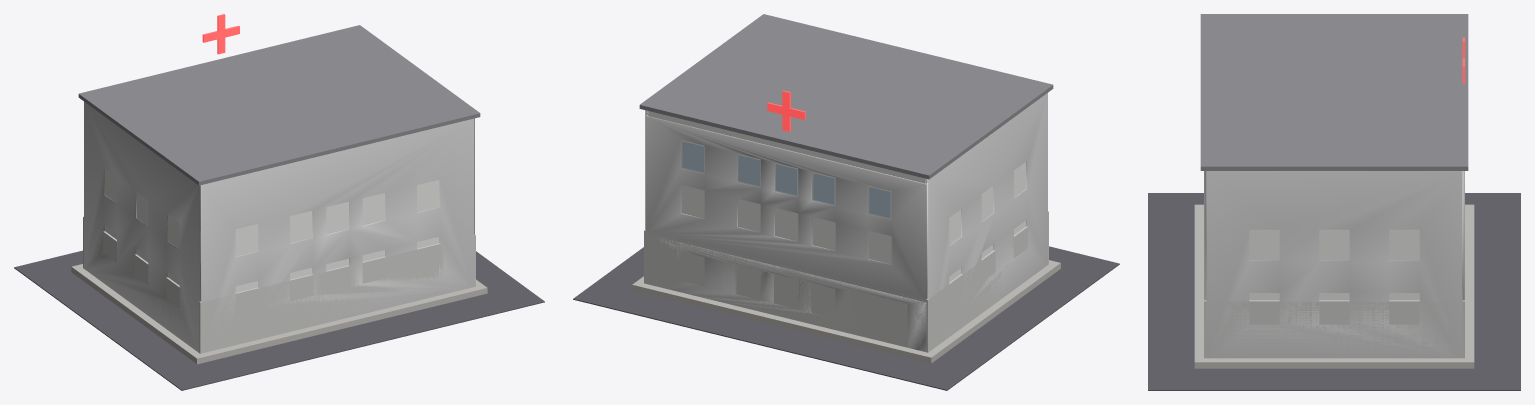
Rendered from hospital.glb.
The picture shows the model from 3 angles, left to right: view 1: azimuth 30°, elevation 25°; view 2: azimuth 150°, elevation 25°; view 3: azimuth 270°, elevation 25°; orthographic projection. The views are drawn at different scales.
Parts seen in each view (by area): view 1: roof, back_wall, left_wall, parking, ground_band, body, foundation; view 2: roof, front_u, ground_band, parking, left_wall, body, front_g, foundation, frame (×5), glass (×5); view 3: right_wall, roof, parking, ground_band, foundation, body, front_u, back_wall.
Part boxes in pixels (x1,y1,x2,y2): roof: (78,25,480,185); back_wall: (201,118,474,347); left_wall: (84,101,200,352); parking: (14,250,544,390); ground_band: (83,216,475,353); body: (105,168,439,292); foundation: (71,264,487,364); roof: (639,14,1053,179); front_u: (645,116,927,302); ground_band: (644,211,1048,352); parking: (573,246,1119,390); left_wall: (925,93,1047,311); body: (647,110,1025,282); front_g: (645,238,926,351); foundation: (632,260,1060,363); frame (×5): (681,140,891,219); glass (×5): (682,141,890,218); right_wall: (1206,171,1462,358); roof: (1200,14,1468,170); parking: (1148,193,1520,390); ground_band: (1204,300,1464,358); foundation: (1194,204,1474,368); body: (1249,229,1419,300); front_u: (1462,171,1464,300); back_wall: (1204,171,1206,300).
Size of the model in its own units: 20 by 12 by 16.
